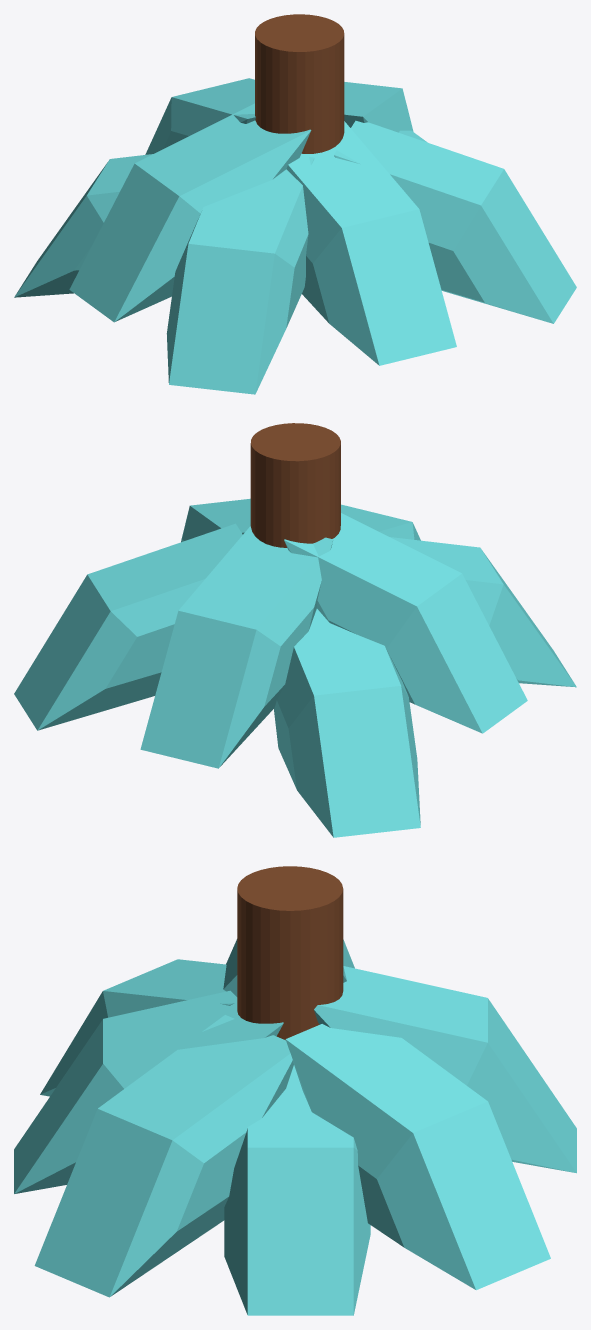
File: Frozen Berry.fbx
The picture shows the model from 3 angles, top to bottom: view 1: azimuth 30°, elevation 25°; view 2: azimuth 150°, elevation 25°; view 3: azimuth 270°, elevation 25°; orthographic projection. The views are drawn at different scales.
Parts seen in each view (by area): view 1: Cylinder; view 2: Cylinder; view 3: Cylinder.
Part boxes in pixels (x1,y1,x2,y2): Cylinder: (14, 14, 576, 394); Cylinder: (14, 423, 576, 837); Cylinder: (14, 866, 576, 1315).
Size of the model in its own units: 1062 by 674 by 1062.
